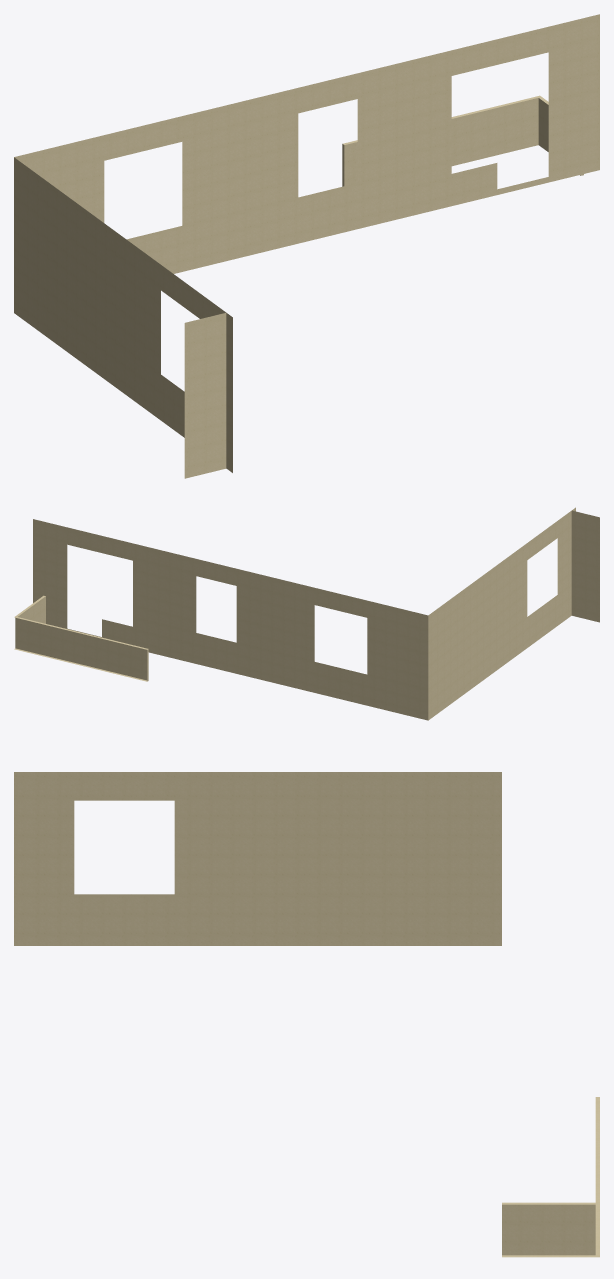
Rendered from ADSK_78.obj.
The picture shows the model from 3 angles, top to bottom: view 1: azimuth 30°, elevation 25°; view 2: azimuth 150°, elevation 25°; view 3: azimuth 270°, elevation 25°; orthographic projection. The views are drawn at different scales.
Size of the model in its own units: 11.38 by 2.72 by 8.25.
1 material, 1 textured.
